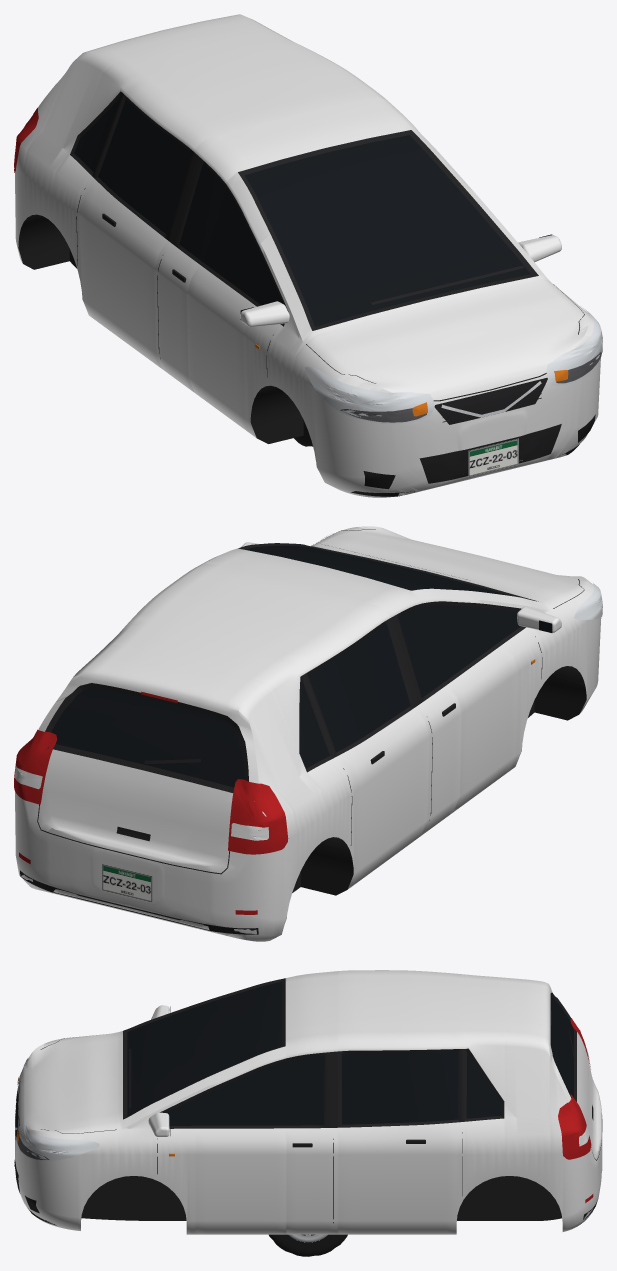
File: nissan-march.glb
3 renders of one model, top to bottom at view 1: azimuth 30°, elevation 25°; view 2: azimuth 150°, elevation 25°; view 3: azimuth 270°, elevation 25°, orthographic. The views are drawn at different scales.
Visible parts, largest first — view 1: body; view 2: body; view 3: body, wheel.
Part boxes in pixels (bbox=[...]): body: bbox=[14, 14, 602, 497]; body: bbox=[14, 526, 602, 941]; body: bbox=[14, 970, 602, 1234]; wheel: bbox=[269, 1234, 347, 1256].
Size of the model in its own units: 1.9 by 1.8 by 3.84.
1 material, 1 textured.
